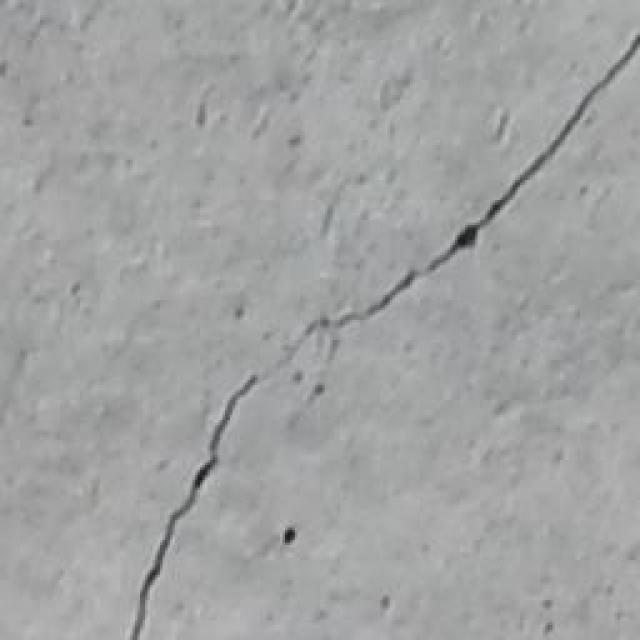concrete-crack: (129, 38, 640, 639), (282, 528, 298, 548)
